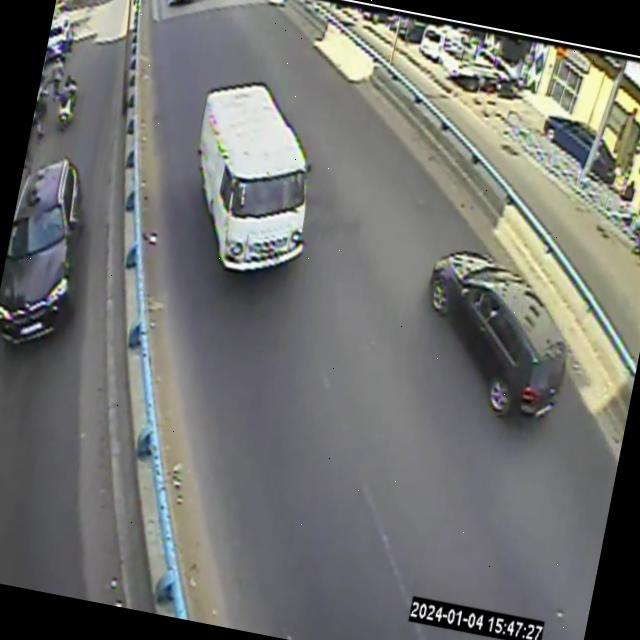car: (193, 83, 320, 285)
